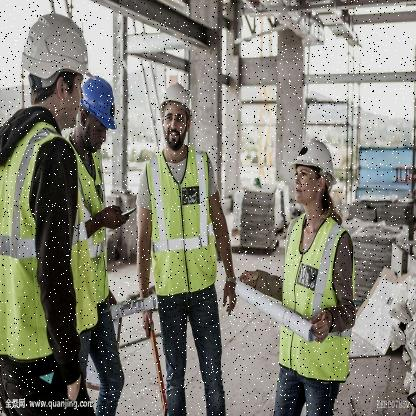capacete: (21, 9, 93, 138), (75, 72, 121, 154), (288, 135, 336, 209), (156, 81, 194, 152)
colete_refletivo: (0, 108, 87, 366), (134, 146, 226, 300), (277, 214, 357, 386), (61, 139, 119, 310)
